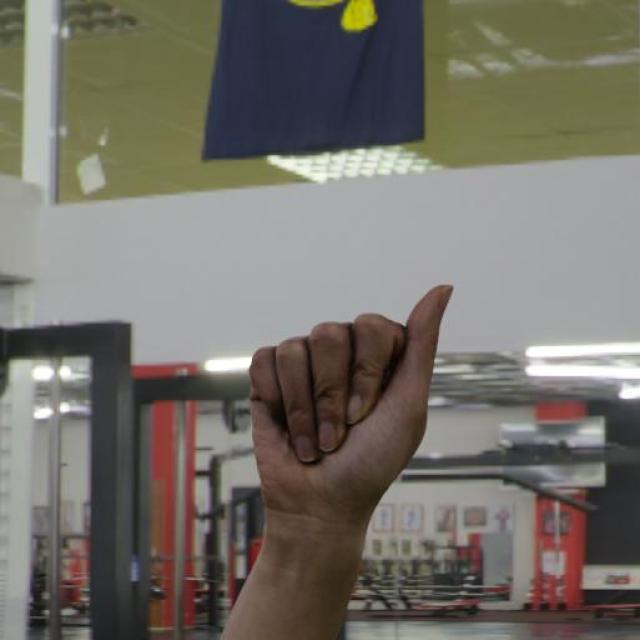A: (246, 282, 456, 522)
